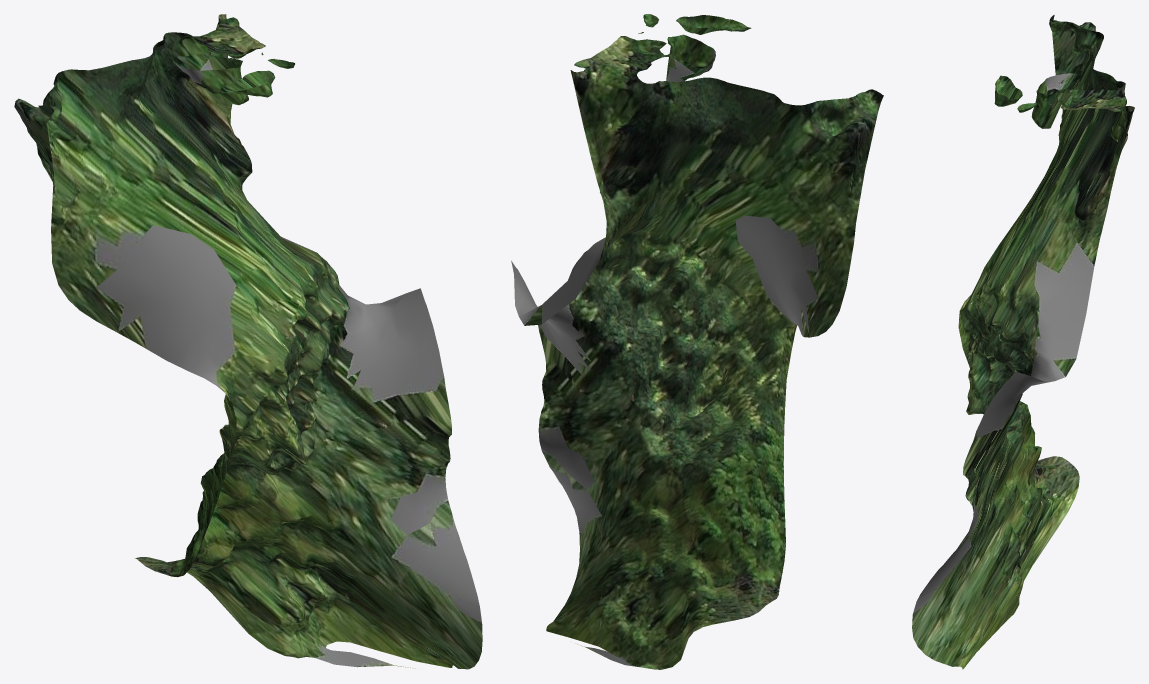
The model's file is Tile_+003_+029.fbx.
3 views of the same model, side by side, from view 1: azimuth 30°, elevation 25°; view 2: azimuth 150°, elevation 25°; view 3: azimuth 270°, elevation 25° (orthographic). The views are drawn at different scales.
Parts seen in each view (by area): view 1: DefaultName; view 2: DefaultName; view 3: DefaultName.
Boxes of the visible parts, x1,y1,x2,y2 form: DefaultName: [14, 14, 482, 669]; DefaultName: [511, 14, 883, 669]; DefaultName: [912, 15, 1134, 669].
Bounding box in the file's own units: 12.48 × 20.11 × 7.97.
